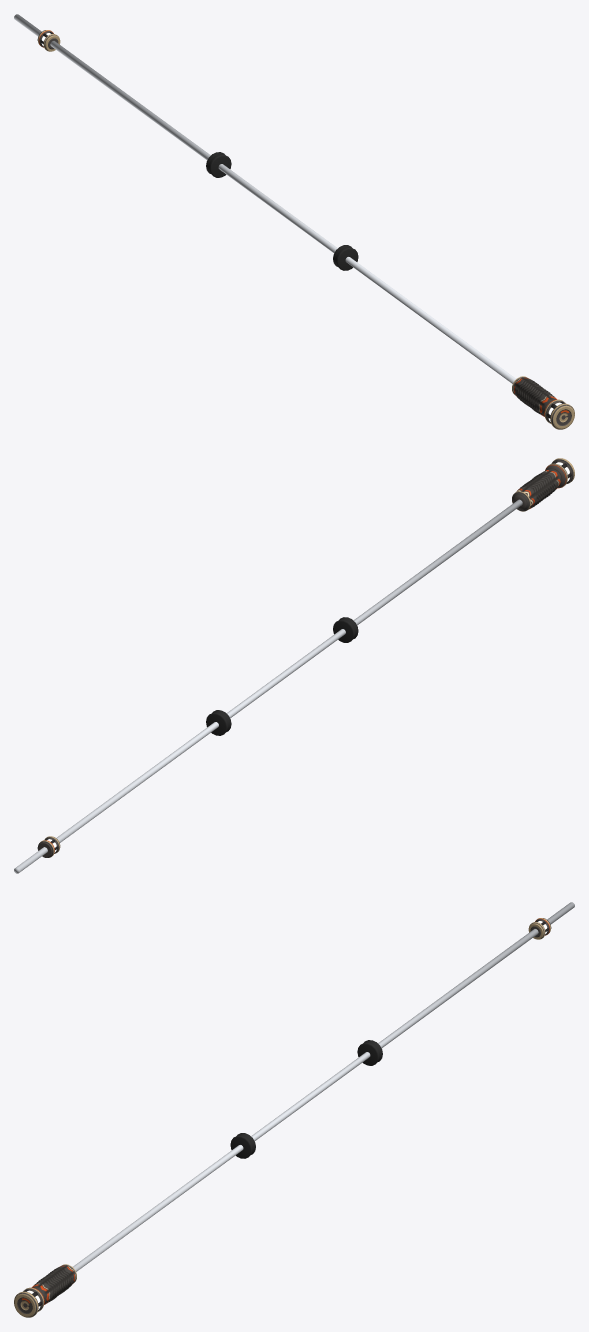
File: fuzeball_rod_2man.glb
3 renders of one model, top to bottom at view 1: azimuth 30°, elevation 25°; view 2: azimuth 150°, elevation 25°; view 3: azimuth 330°, elevation 25°, orthographic.
Parts seen in each view (by area): view 1: rod2_bar.002, rod2_handle_helios_grip; view 2: rod2_bar.002, rod2_handle_helios_grip; view 3: rod2_bar.002, rod2_handle_helios_grip.
Part boxes in pixels (x1,y1,x2,y2): rod2_bar.002: [14, 14, 515, 383]; rod2_handle_helios_grip: [513, 377, 556, 416]; rod2_bar.002: [14, 499, 522, 873]; rod2_handle_helios_grip: [512, 469, 561, 510]; rod2_bar.002: [73, 902, 574, 1271]; rod2_handle_helios_grip: [32, 1265, 75, 1304].
Size of the model in its own units: 3.34 by 3.34 by 133.
Materials: 8 (2 with a texture image).
